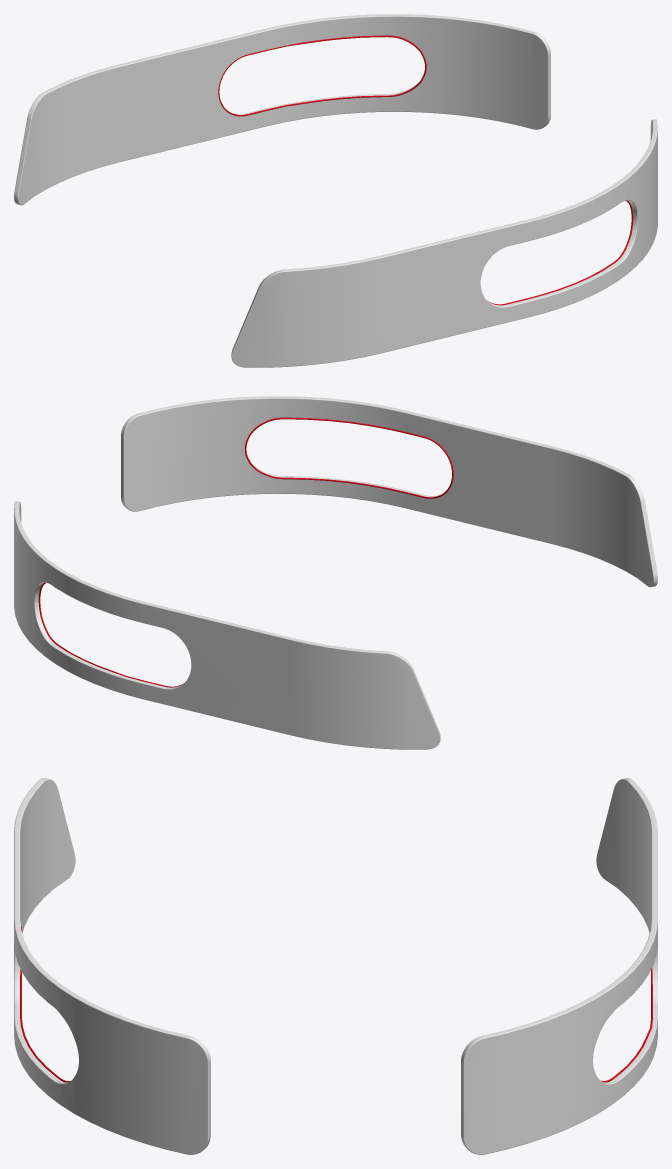
File: SM_Building_Wall.fbx
3 renders of one model, top to bottom at view 1: azimuth 30°, elevation 25°; view 2: azimuth 150°, elevation 25°; view 3: azimuth 270°, elevation 25°, orthographic. The views are drawn at different scales.
Parts seen in each view (by area): view 1: SM_Building_Wall; view 2: SM_Building_Wall; view 3: SM_Building_Wall.
Boxes of the visible parts, <box> form: SM_Building_Wall: <box>14,14,657,367</box>; SM_Building_Wall: <box>14,396,657,749</box>; SM_Building_Wall: <box>14,778,657,1154</box>.
Bounding box in the file's own units: 20.96 × 4 × 19.94.
